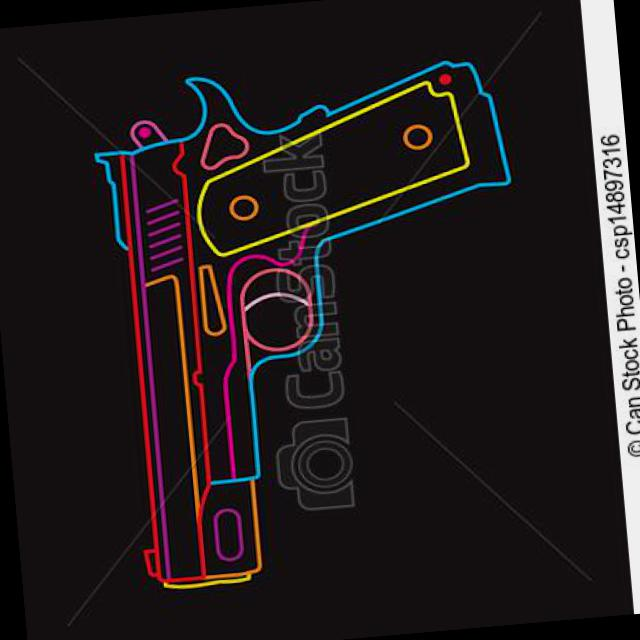handgun: (85, 51, 542, 594)
